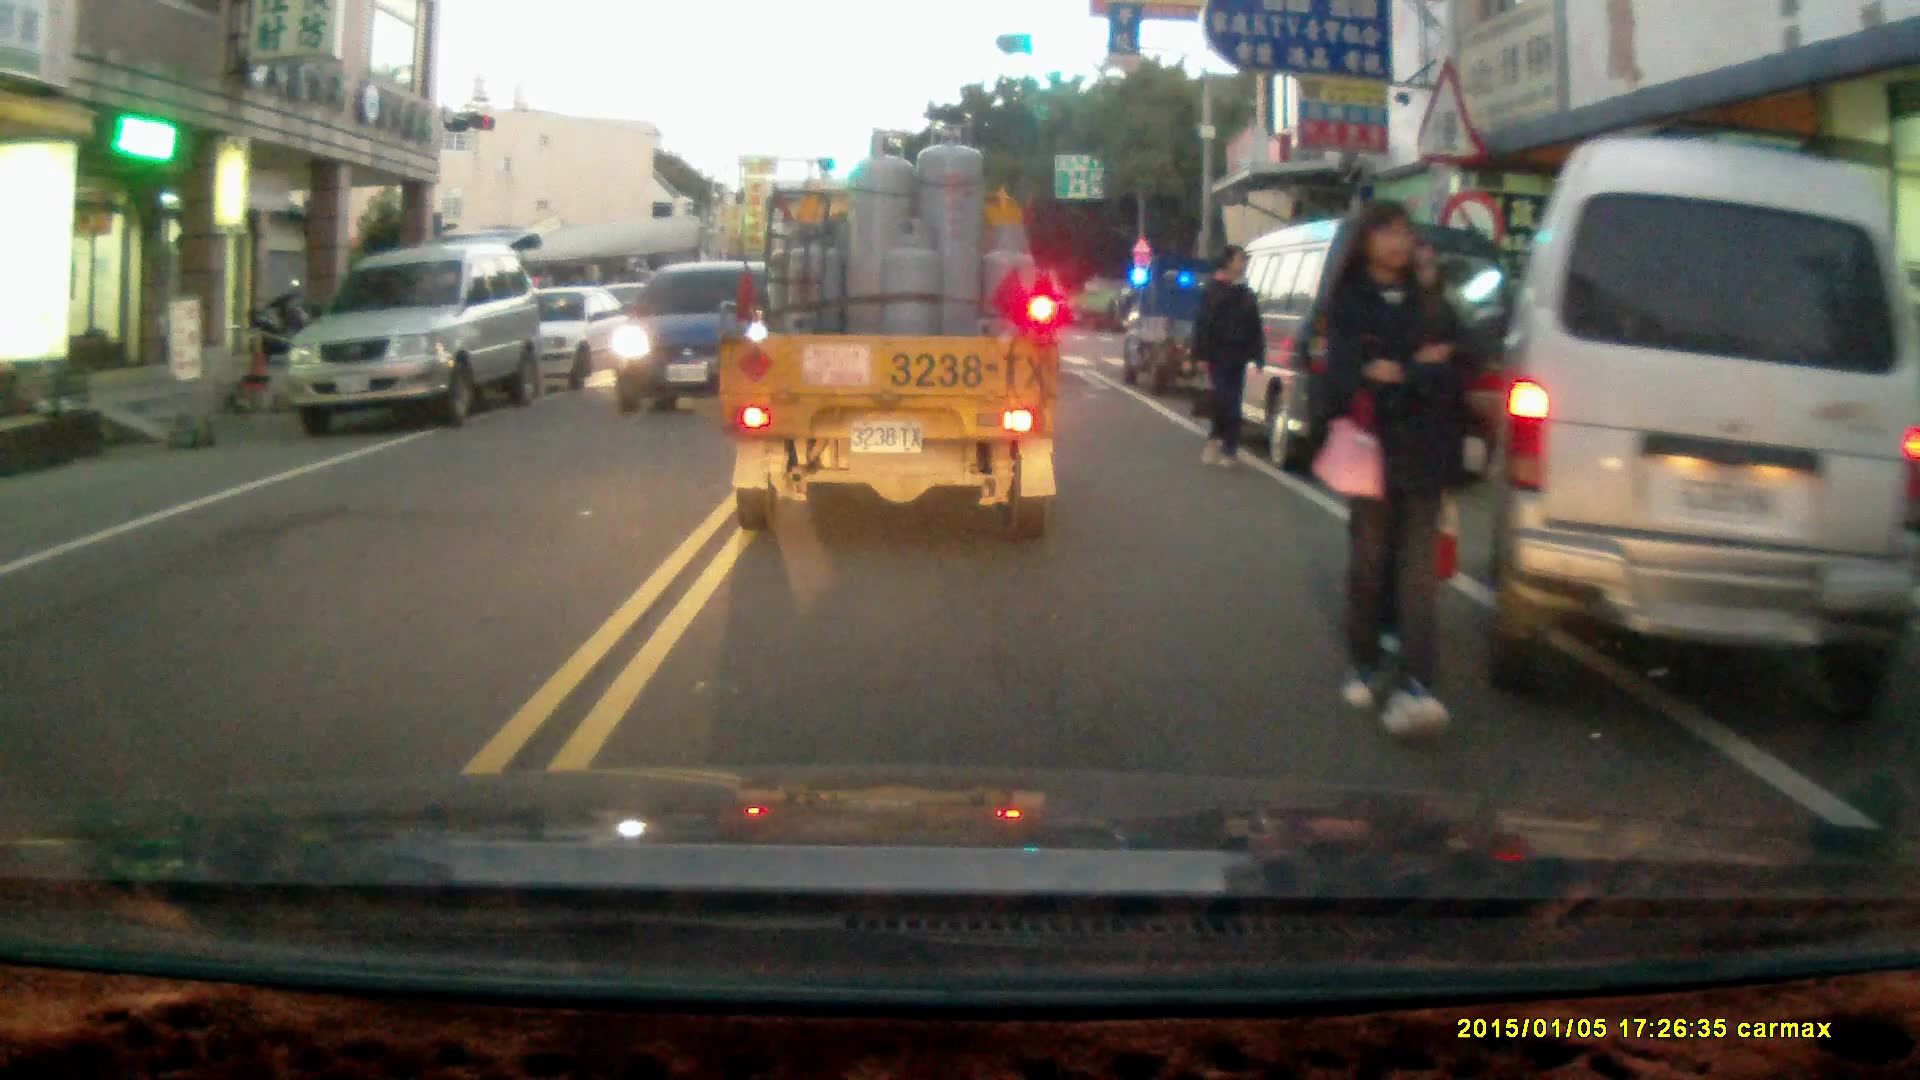pedestrian: (1319, 197, 1472, 745), (1186, 244, 1266, 474)
vehicle: (1483, 135, 1898, 721), (714, 129, 1058, 534), (1201, 212, 1522, 483), (291, 245, 548, 441), (605, 262, 769, 415), (1121, 250, 1243, 399), (479, 287, 639, 399)
